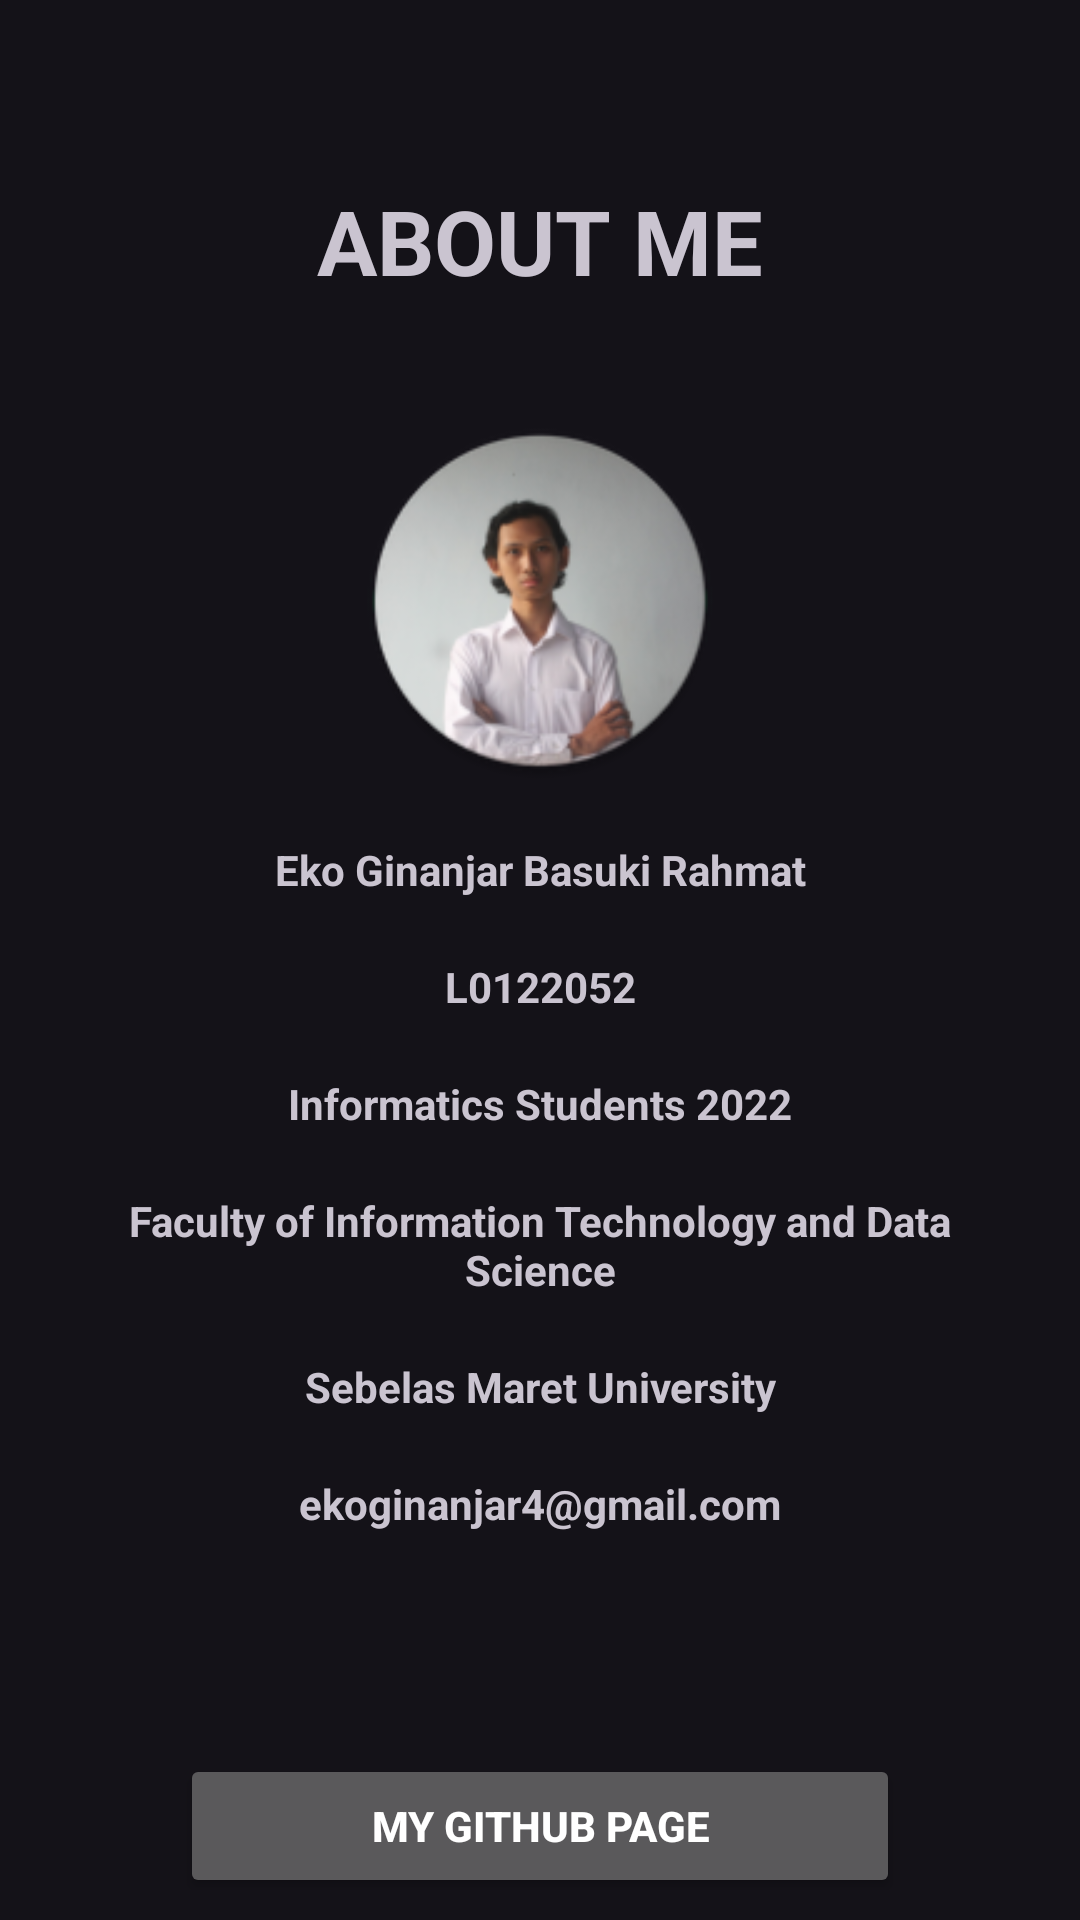

Icon click points for this 1080w x 1920h phone screenshot, format (x,y):
photo round: (540,601)
